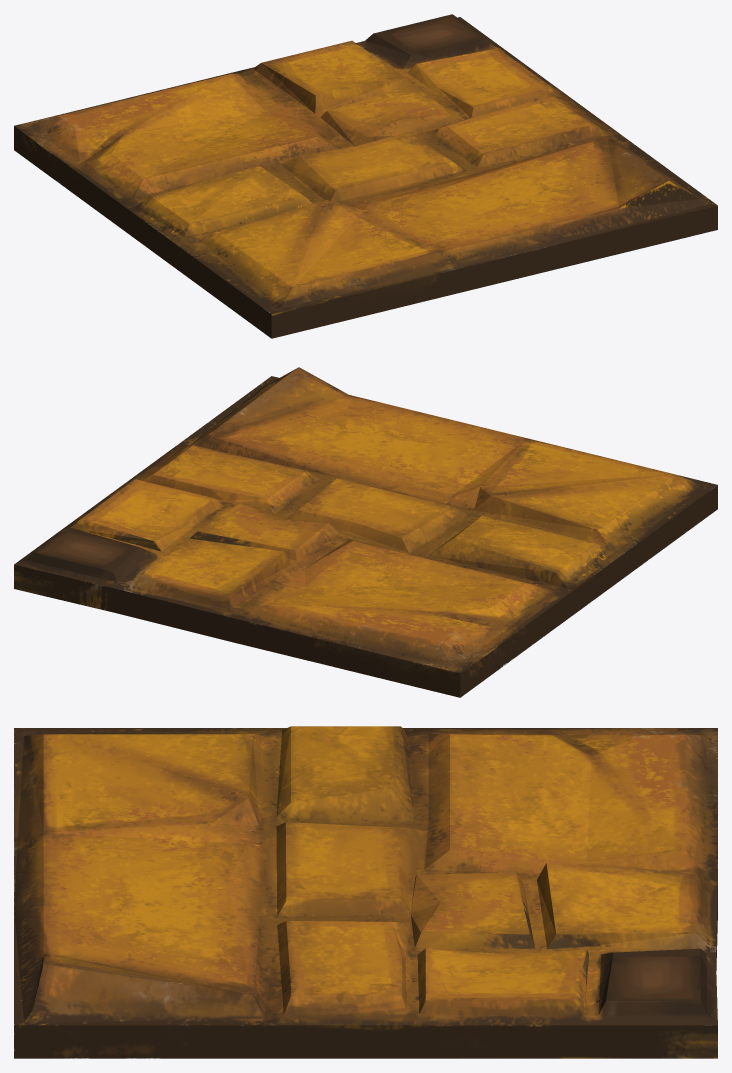
The model's file is Floor_Squared_C.fbx.
3 renders of one model, top to bottom at view 1: azimuth 30°, elevation 25°; view 2: azimuth 150°, elevation 25°; view 3: azimuth 270°, elevation 25°, orthographic. The views are drawn at different scales.
Parts seen in each view (by area): view 1: Floor_Squared_C; view 2: Floor_Squared_C; view 3: Floor_Squared_C.
Part boxes in pixels (<box>): Floor_Squared_C: <box>14,14,717,338</box>; Floor_Squared_C: <box>14,367,717,697</box>; Floor_Squared_C: <box>14,726,717,1058</box>.
Bounding box in the file's own units: 484 × 52.37 × 484.
